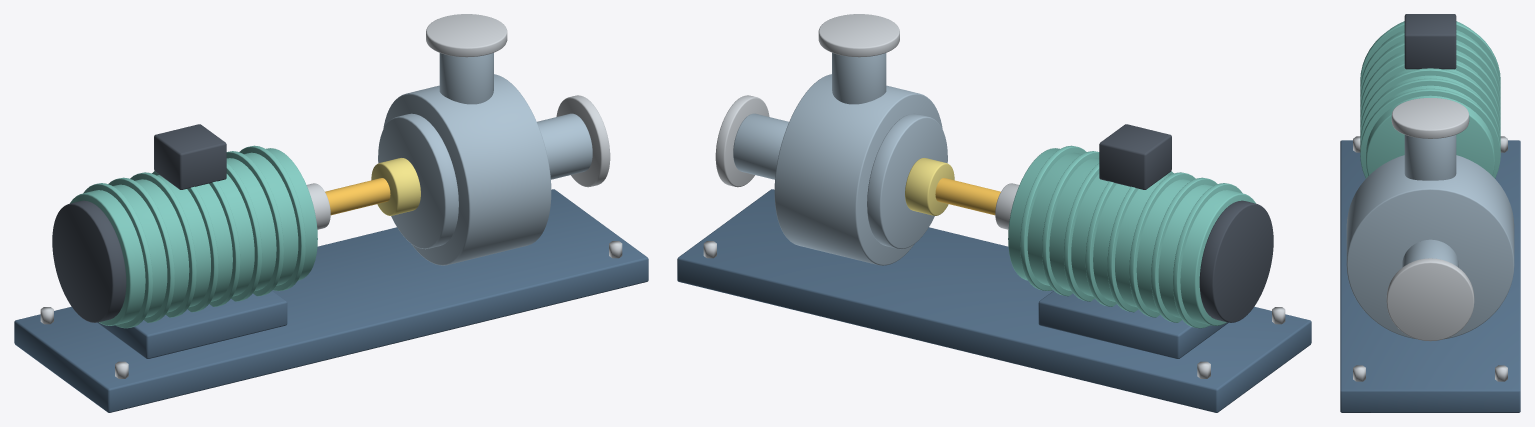
Rendered from marine_ballast_pump.glb.
3 renders of one model, left to right at view 1: azimuth 30°, elevation 25°; view 2: azimuth 150°, elevation 25°; view 3: azimuth 270°, elevation 25°, orthographic. The views are drawn at different scales.
Visible parts, largest first — view 1: Pump_Skid, Motor_Body, Pump_Casing, Motor_End_Cap, Casing_Cover, Pump_Skid_Pedestal, Motor_Terminal_Box, Discharge_Flange, Suction_Port, Discharge_Port, Suction_Flange, Shaft_Seal (+10 smaller); view 2: Pump_Skid, Motor_Body, Pump_Casing, Motor_End_Cap, Casing_Cover, Pump_Skid_Pedestal, Motor_Terminal_Box, Discharge_Flange, Suction_Port, Discharge_Port, Suction_Flange, Shaft_Seal (+10 smaller); view 3: Pump_Skid, Pump_Casing, Suction_Flange, Motor_Body, Motor_Terminal_Box, Discharge_Flange, Discharge_Port, Motor_Cooling_Fin_8, Motor_Cooling_Fin_7, Motor_Cooling_Fin_6, Suction_Port, Motor_Cooling_Fin_1 (+6 smaller).
Part boxes in pixels (bbox=[...]): Pump_Skid: bbox=[14, 189, 648, 412]; Motor_Body: bbox=[70, 148, 317, 325]; Pump_Casing: bbox=[383, 74, 551, 265]; Motor_End_Cap: bbox=[52, 200, 126, 322]; Casing_Cover: bbox=[378, 113, 458, 249]; Pump_Skid_Pedestal: bbox=[97, 291, 287, 358]; Motor_Terminal_Box: bbox=[154, 124, 226, 189]; Discharge_Flange: bbox=[426, 14, 507, 57]; Suction_Port: bbox=[537, 113, 592, 179]; Discharge_Port: bbox=[439, 53, 493, 104]; Suction_Flange: bbox=[556, 95, 610, 187]; Shaft_Seal: bbox=[371, 158, 420, 215]; Pump_Skid: bbox=[677, 189, 1311, 412]; Motor_Body: bbox=[1008, 148, 1255, 325]; Pump_Casing: bbox=[774, 74, 942, 265]; Motor_End_Cap: bbox=[1199, 200, 1273, 322]; Casing_Cover: bbox=[867, 113, 947, 249]; Pump_Skid_Pedestal: bbox=[1038, 291, 1228, 358]; Motor_Terminal_Box: bbox=[1099, 124, 1171, 189]; Discharge_Flange: bbox=[818, 14, 899, 57]; Suction_Port: bbox=[733, 113, 788, 179]; Discharge_Port: bbox=[832, 53, 886, 104]; Suction_Flange: bbox=[715, 95, 769, 187]; Shaft_Seal: bbox=[905, 158, 954, 215]; Pump_Skid: bbox=[1340, 140, 1520, 412]; Pump_Casing: bbox=[1346, 155, 1514, 339]; Suction_Flange: bbox=[1386, 258, 1474, 341]; Motor_Body: bbox=[1366, 21, 1494, 175]; Motor_Terminal_Box: bbox=[1404, 14, 1456, 69]; Discharge_Flange: bbox=[1391, 98, 1469, 138]; Discharge_Port: bbox=[1404, 135, 1456, 180]; Motor_Cooling_Fin_8: bbox=[1360, 88, 1500, 178]; Motor_Cooling_Fin_7: bbox=[1360, 78, 1500, 147]; Motor_Cooling_Fin_6: bbox=[1360, 68, 1500, 137]; Suction_Port: bbox=[1402, 239, 1458, 267]; Motor_Cooling_Fin_1: bbox=[1360, 22, 1500, 86].
Size of the model in its own units: 4.6 by 2.03 by 1.4.
